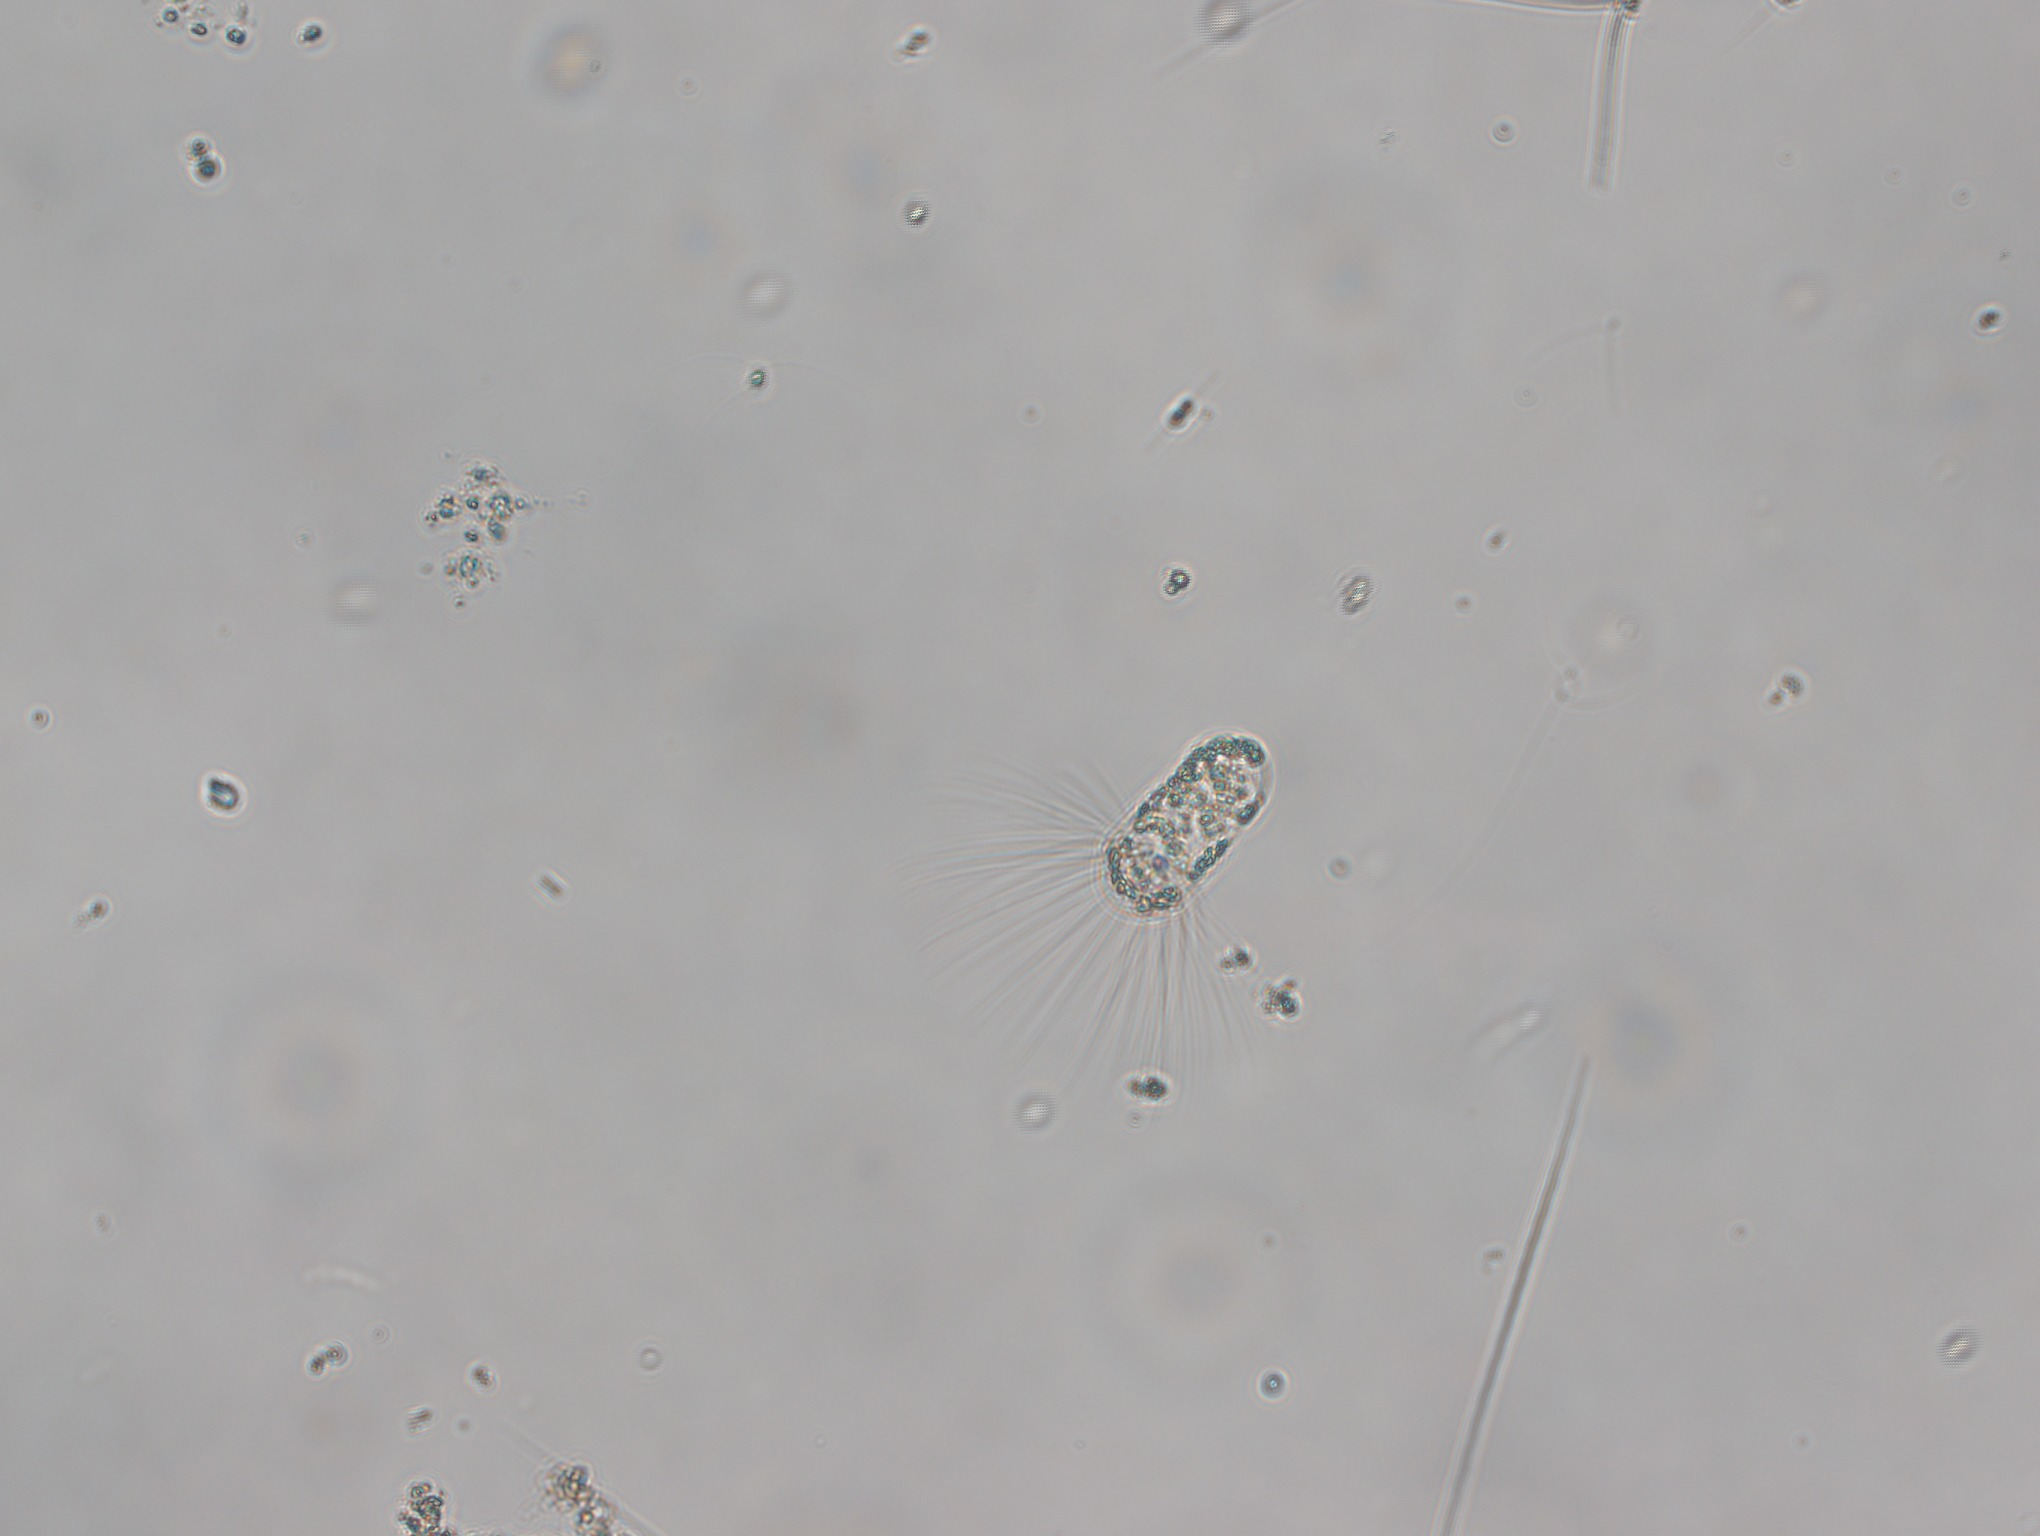corethron: (919, 695, 1334, 1060)
